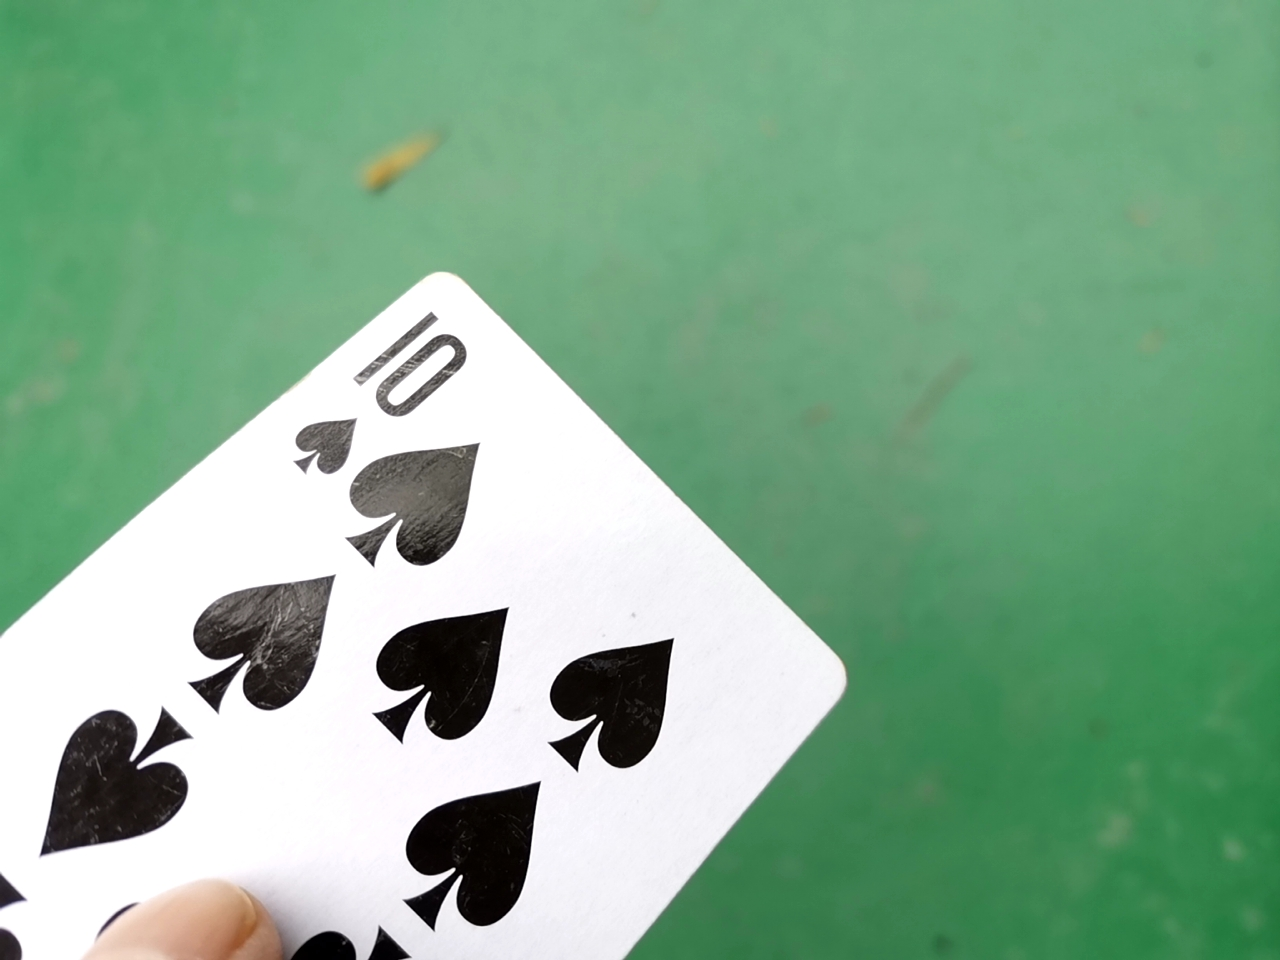ht 10: (9, 240, 865, 960)
